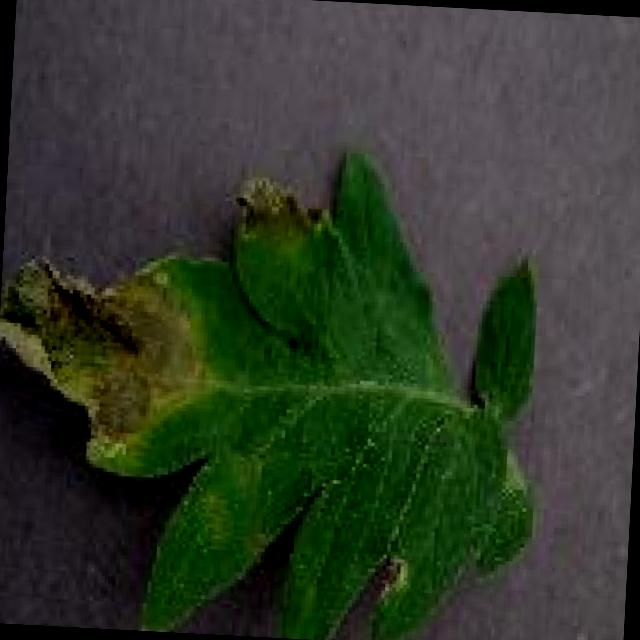leaf blight: (0, 139, 545, 640)
